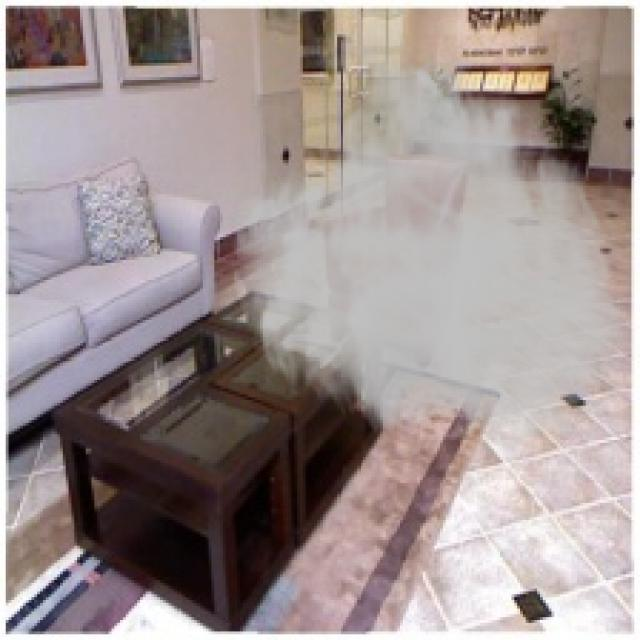Smoke: (228, 37, 628, 452)
